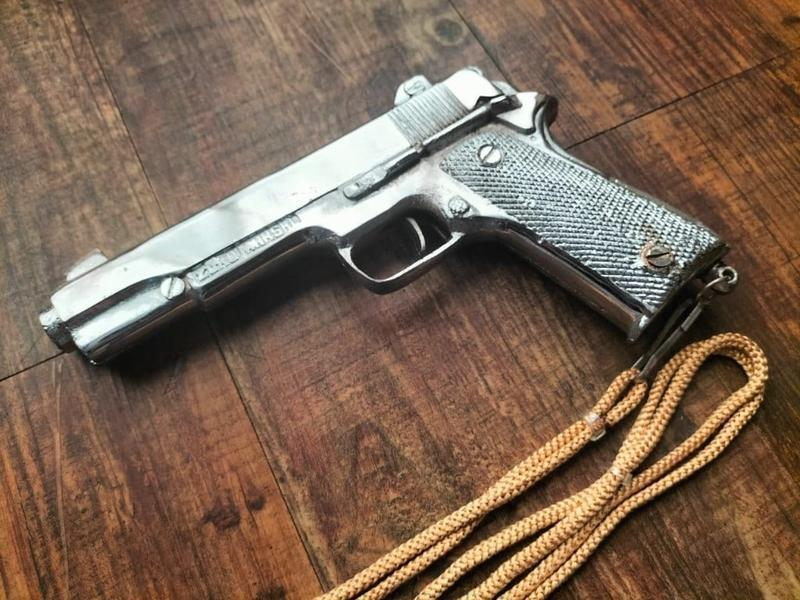GUN: (30, 64, 731, 374)
